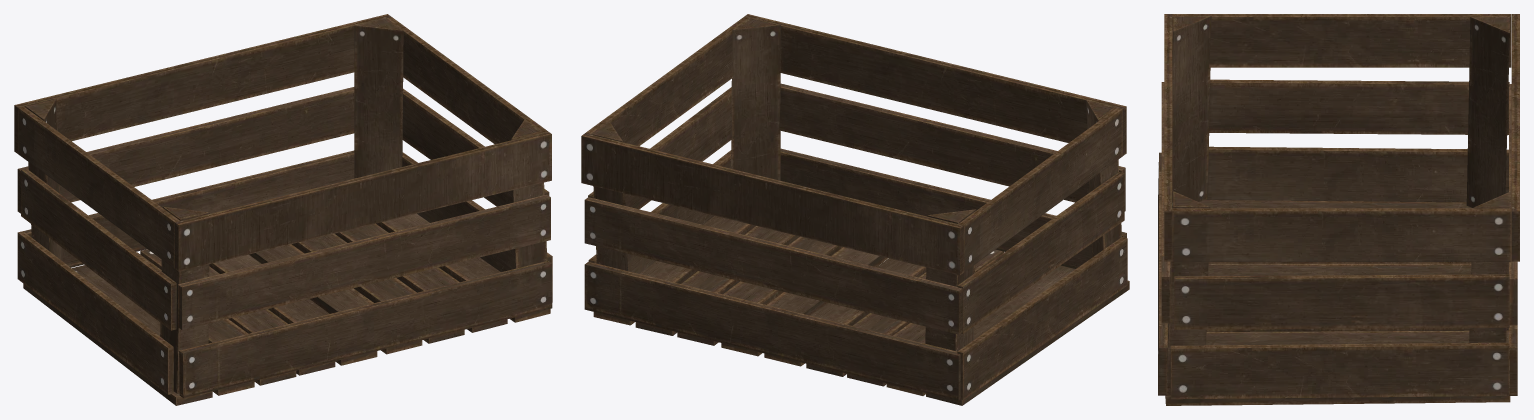
File: crate_wood_small.glb
The picture shows the model from 3 angles, left to right: view 1: azimuth 30°, elevation 25°; view 2: azimuth 150°, elevation 25°; view 3: azimuth 270°, elevation 25°; orthographic projection. The views are drawn at different scales.
Visible parts, largest first — view 1: crate_wood_small; view 2: crate_wood_small; view 3: crate_wood_small.
Part boxes in pixels (<box>): crate_wood_small: <box>14,14,552,405</box>; crate_wood_small: <box>581,14,1129,405</box>; crate_wood_small: <box>1158,14,1519,405</box>.
Size of the model in its own units: 0.5535 by 0.25 by 0.4184.
1 material, 1 textured.
